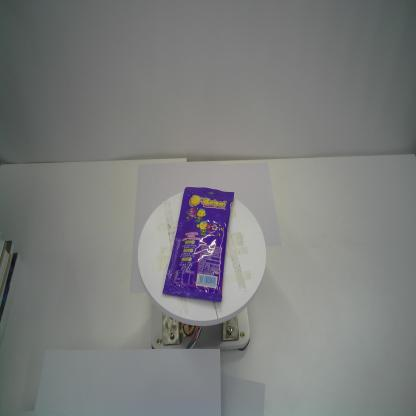Candy: (161, 185, 236, 302)
